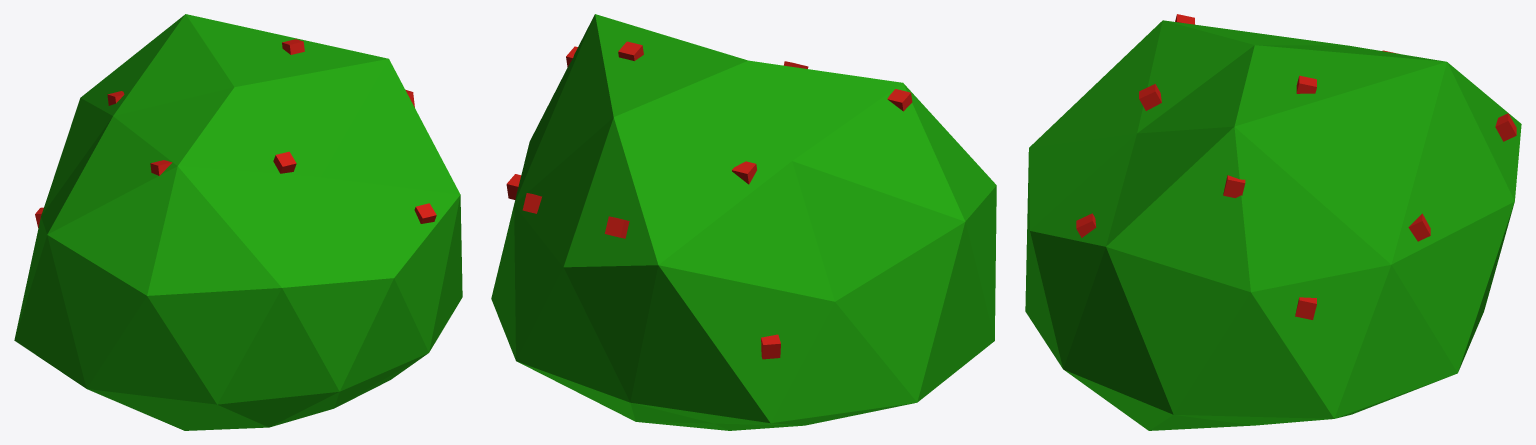
Rendered from Bush_10.fbx.
3 renders of one model, left to right at view 1: azimuth 30°, elevation 25°; view 2: azimuth 150°, elevation 25°; view 3: azimuth 270°, elevation 25°, orthographic. The views are drawn at different scales.
Parts seen in each view (by area): view 1: Bush10_mesh; view 2: Bush10_mesh; view 3: Bush10_mesh.
Boxes of the visible parts, box(x1,y1,x2,y2) form: Bush10_mesh: box(14, 14, 462, 430); Bush10_mesh: box(491, 14, 996, 430); Bush10_mesh: box(1025, 14, 1521, 430).
Size of the model in its own units: 127 by 100 by 124.
